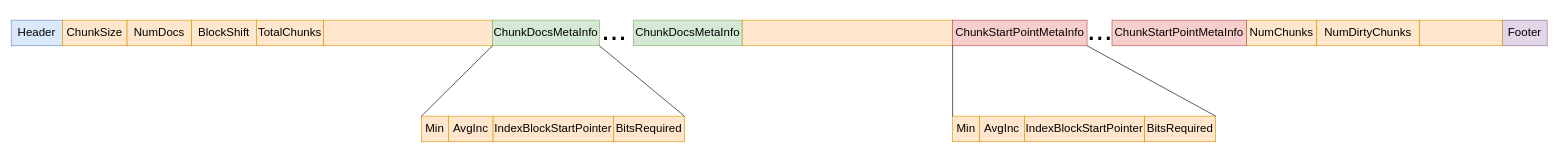
Some shapes in this 1558 by 153 pixel diagram are drawn without their labels. Each missing label, with the box of its shape:
ChunkDocsMetaInfoStartPointer: (323, 20, 492, 46)
ChunkStrartPointerMetaInfoStartPointer: (741, 20, 953, 46)
NumDirtyDocs: (1419, 20, 1502, 46)
